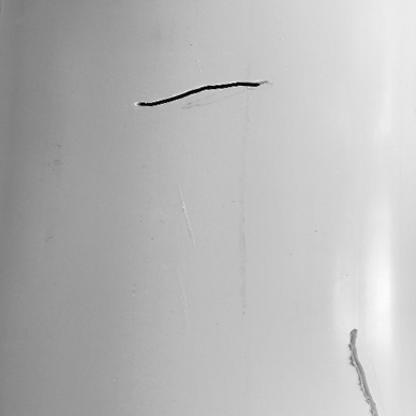fengxi: (132, 76, 273, 110)
sunshang: (345, 328, 382, 416)
